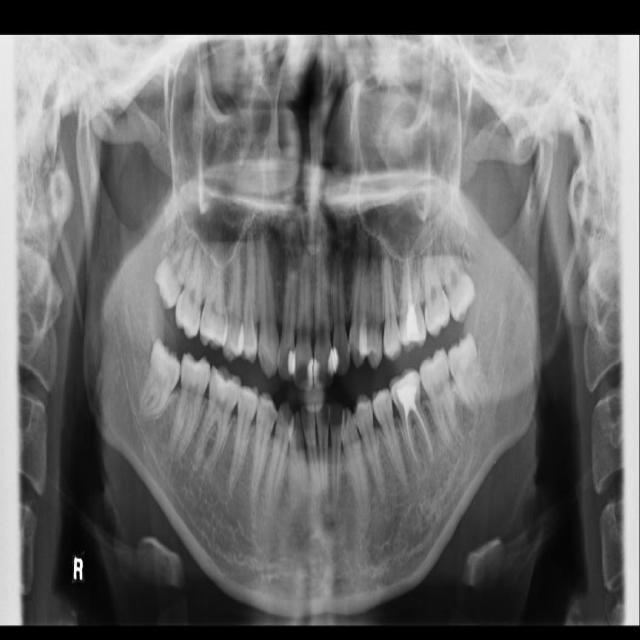3M ESPE Implant: (145, 216, 203, 312)
52: (388, 367, 423, 419), (398, 293, 428, 352), (312, 335, 336, 389), (292, 334, 314, 391), (331, 323, 351, 375), (278, 333, 296, 382)
73: (395, 404, 440, 465), (400, 235, 423, 300), (596, 570, 607, 582)
BioHorizons Implant: (423, 244, 450, 338)
BioLife Implant: (438, 235, 479, 325)
Biomet 3i Implant: (443, 330, 489, 419)
Blue Sky Bio Implant: (415, 346, 464, 452)
Caries: (170, 238, 213, 341)
Implant: (168, 351, 213, 464)
Keystone Dental Implant: (134, 336, 188, 423)
